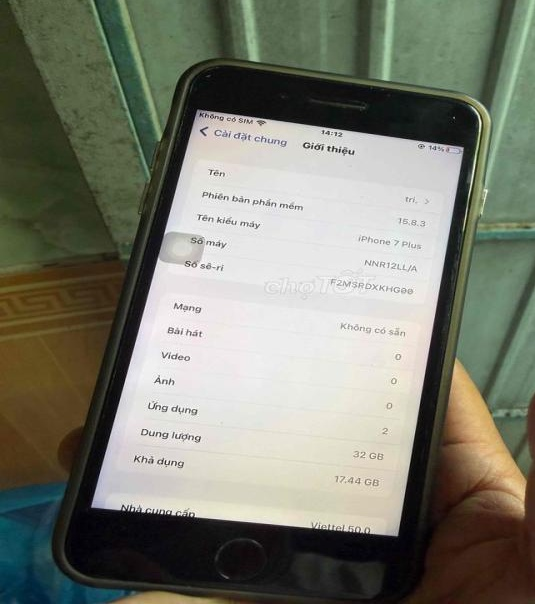scratch: (272, 81, 377, 115), (335, 70, 398, 102), (181, 59, 227, 91), (434, 105, 465, 124)
